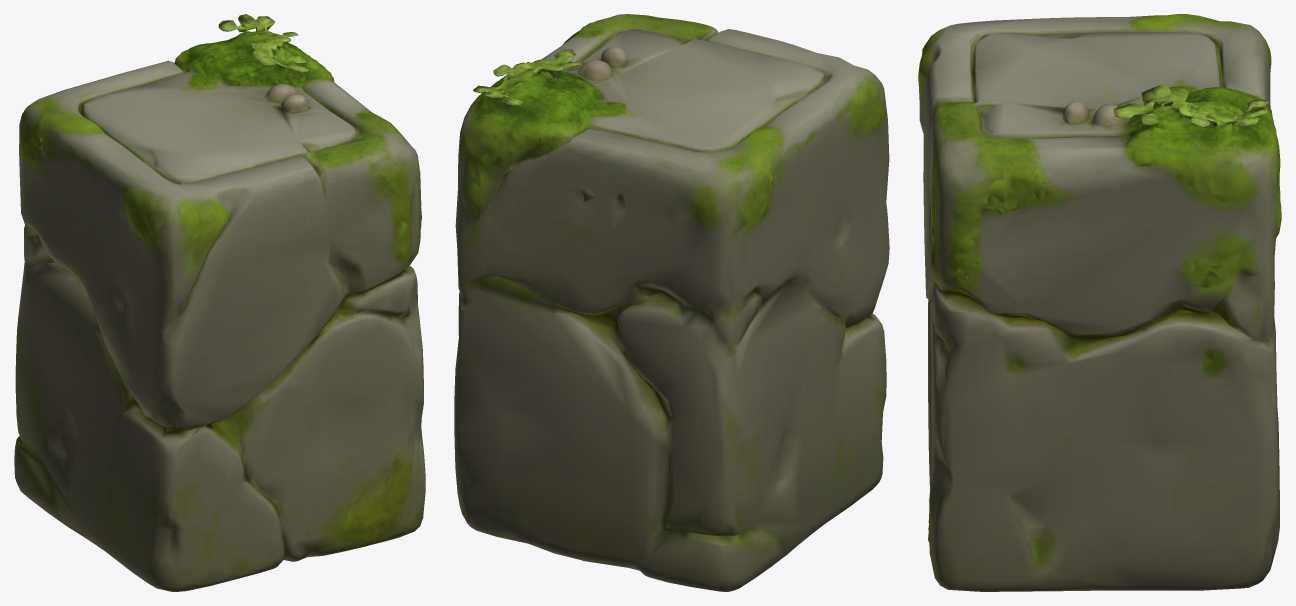
Rendered from pillar5.glb.
3 views of the same model, side by side, from view 1: azimuth 30°, elevation 25°; view 2: azimuth 150°, elevation 25°; view 3: azimuth 270°, elevation 25° (orthographic). The views are drawn at different scales.
Visible parts, largest first — view 1: world; view 2: world; view 3: world.
Part boxes in pixels (left/top/right/bottom): world: left=14, top=14, right=425, bottom=591; world: left=454, top=14, right=889, bottom=591; world: left=918, top=14, right=1281, bottom=591.
Bounding box in the file's own units: 0.6822 × 1 × 0.6967.
1 material, 1 textured.
